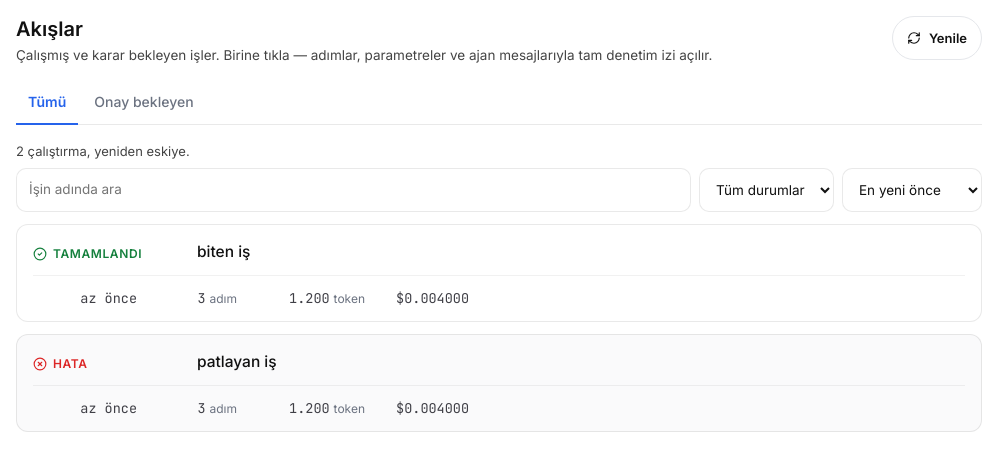
Test case: the_status_filter_offers_the_statuses_present_in_the_words_the_cards_use
Check: the text "biten iş" is shown, box [197, 242, 250, 261]
Select "Hata" in the dropdown named "Duruma göre filtrele" at (766, 190), box [699, 168, 834, 212]
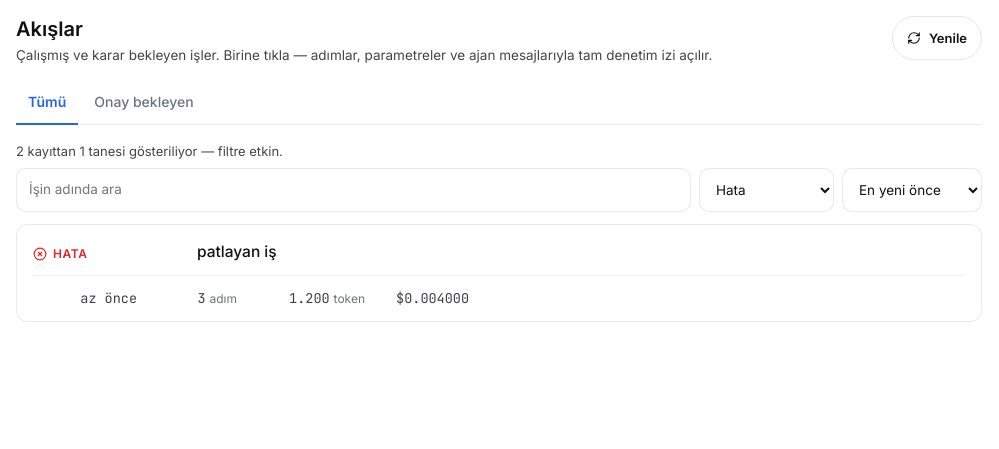
Check: the text "patlayan iş" is shown, box [197, 242, 277, 261]
Check: the number of list items is 1, box [16, 224, 982, 322]
Check: the button "biten iş" is gone
